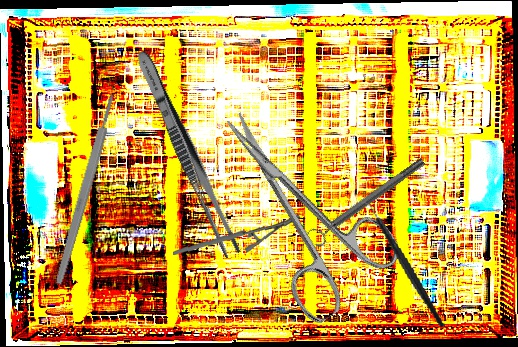Chopper: (357, 189, 446, 339)
Dressing Forceps: (129, 47, 246, 260)
Fixation Ring: (305, 152, 431, 250)
Iris Scissors: (188, 81, 411, 328)
Needle Holder: (172, 207, 301, 262)
Scalpel Handle: (52, 92, 119, 287)
